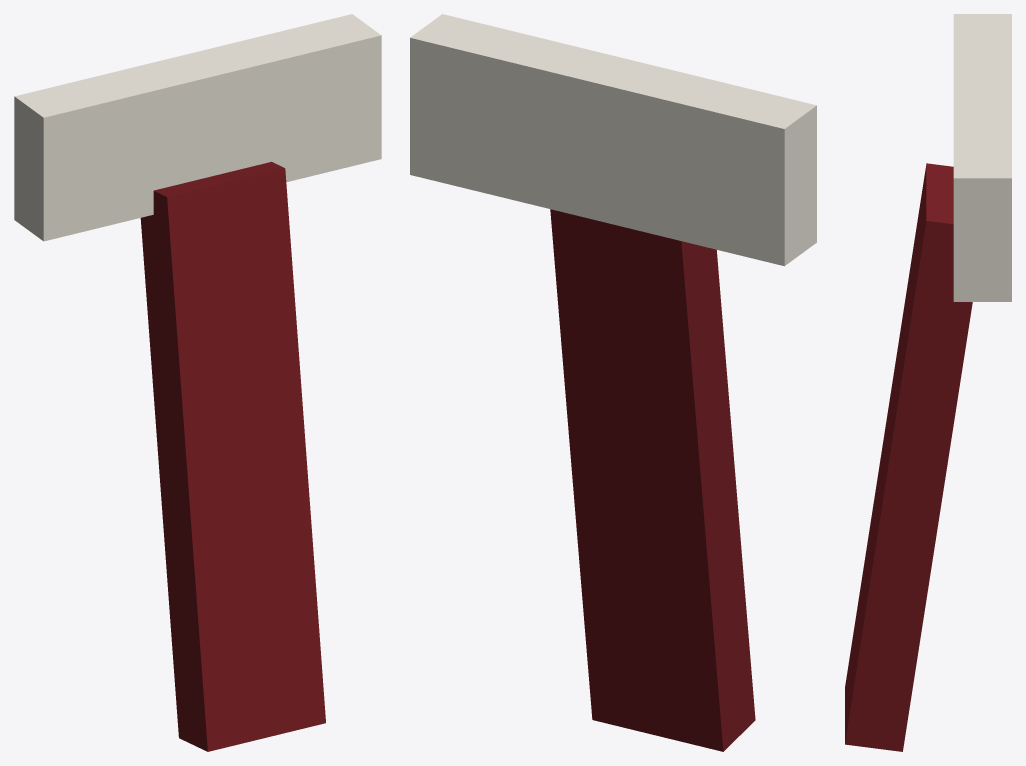
Rendered from person-tie.glb.
The picture shows the model from 3 angles, left to right: view 1: azimuth 30°, elevation 25°; view 2: azimuth 150°, elevation 25°; view 3: azimuth 270°, elevation 25°; orthographic projection. The views are drawn at different scales.
Visible parts, largest first — view 1: 01_#7a1c22_noshadow_r110, 00_#f0ece0_noshadow_r110; view 2: 01_#7a1c22_noshadow_r110, 00_#f0ece0_noshadow_r110; view 3: 01_#7a1c22_noshadow_r110, 00_#f0ece0_noshadow_r110.
Part boxes in pixels (bbox=[...]): 01_#7a1c22_noshadow_r110: bbox=[140, 161, 325, 751]; 00_#f0ece0_noshadow_r110: bbox=[14, 14, 381, 241]; 01_#7a1c22_noshadow_r110: bbox=[550, 209, 755, 751]; 00_#f0ece0_noshadow_r110: bbox=[410, 14, 816, 266]; 01_#7a1c22_noshadow_r110: bbox=[845, 163, 972, 751]; 00_#f0ece0_noshadow_r110: bbox=[953, 14, 1011, 301].
Bounding box in the file's own units: 0.2 × 0.3556 × 0.0858.
